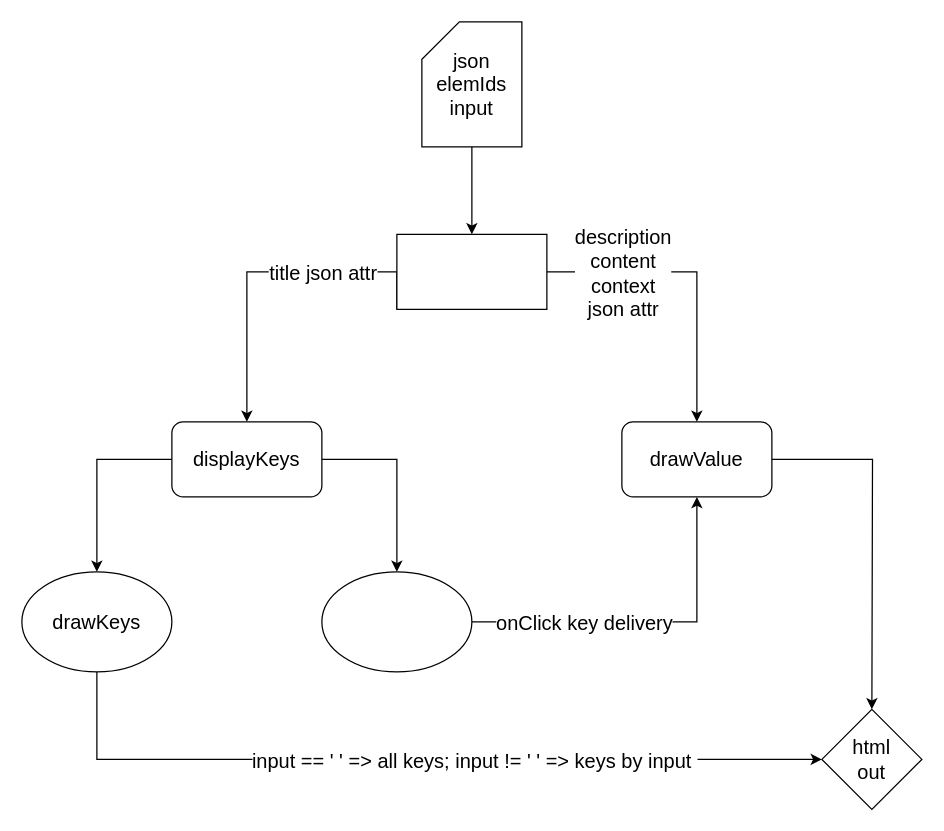
Image size: 944x831. Some labels were removed from this diagram. The shapes that lost their labels are listed below. From the top down, each one's centre as x and y in pixels, then its label:
At point (471, 271): "<script>".
At point (396, 621): "sendKey".
